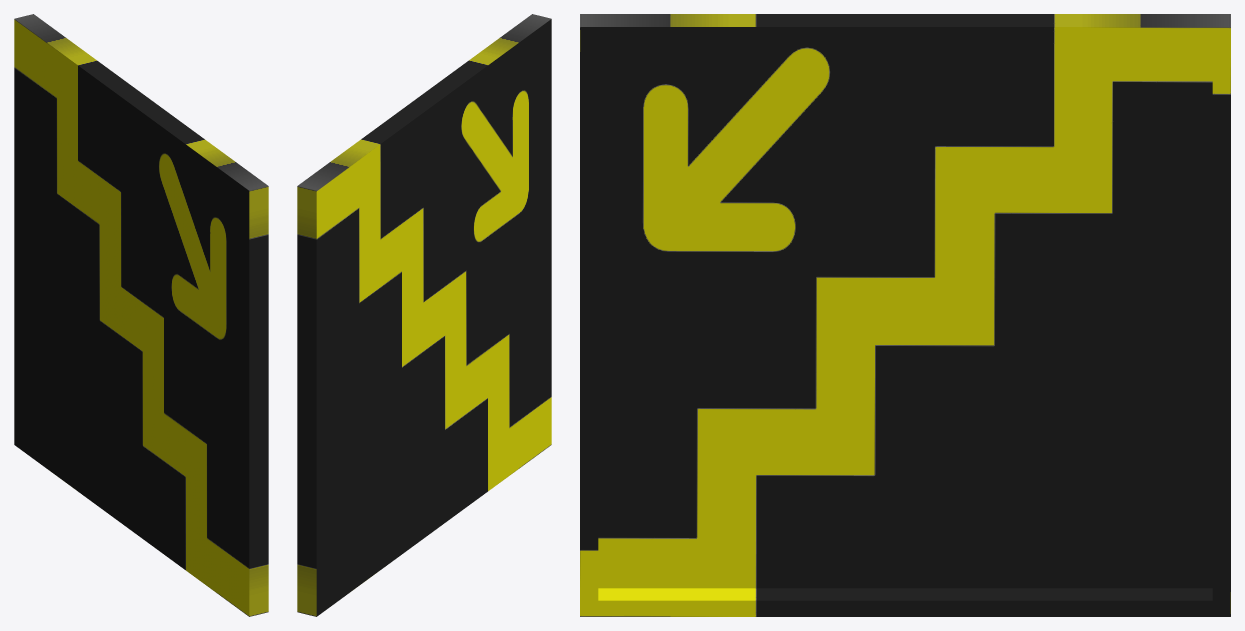
File: DownstairsKey.obj
The picture shows the model from 3 angles, left to right: view 1: azimuth 30°, elevation 25°; view 2: azimuth 150°, elevation 25°; view 3: azimuth 270°, elevation 25°; orthographic projection. The views are drawn at different scales.
Parts seen in each view (by area): view 1: pCube3; view 2: pCube3; view 3: pCube3.
Boxes of the visible parts, x1=… form: pCube3: x1=14, y1=14, x2=268, y2=616; pCube3: x1=297, y1=14, x2=551, y2=616; pCube3: x1=580, y1=14, x2=1230, y2=616.
Size of the model in its own units: 0.1608 by 3.38 by 3.38.
1 material, 1 textured.
